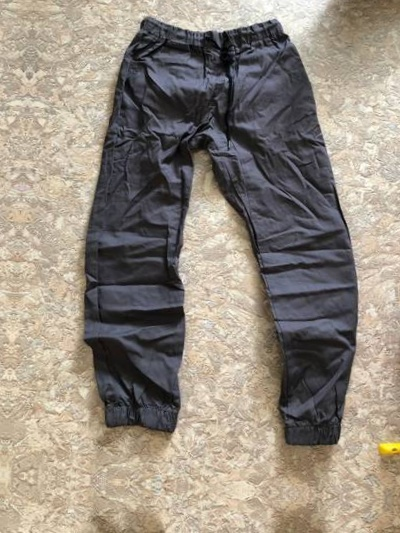Pants: (44, 5, 400, 453), (10, 524, 379, 533)
